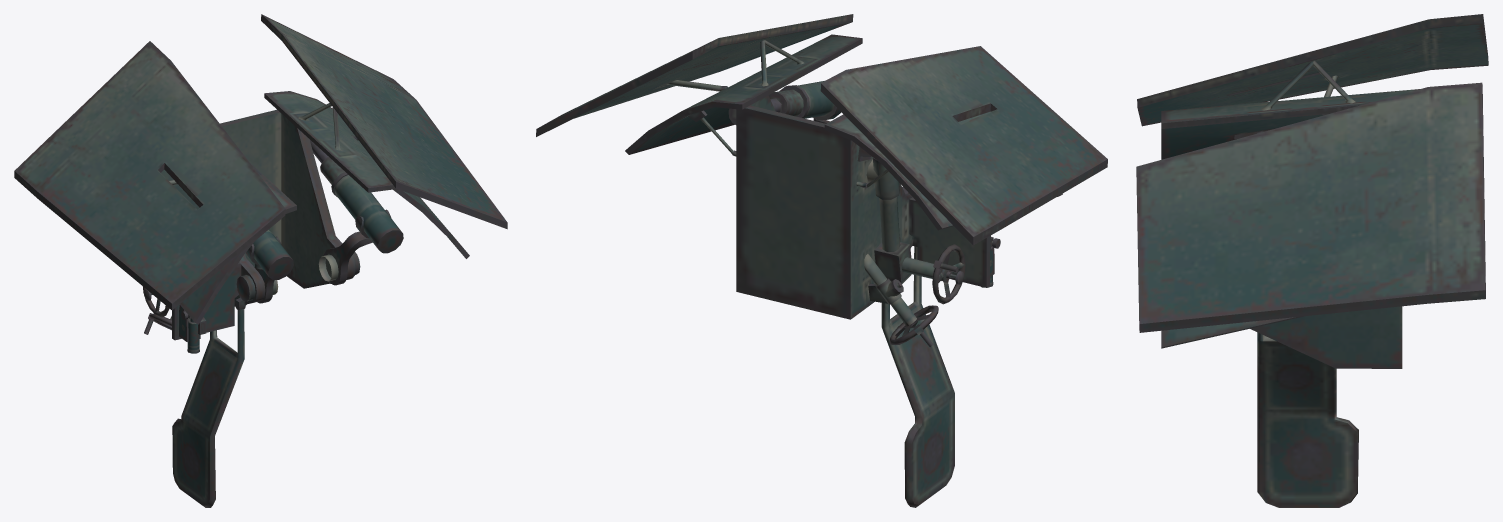
File: Turret_01.glb
3 renders of one model, left to right at view 1: azimuth 30°, elevation 25°; view 2: azimuth 150°, elevation 25°; view 3: azimuth 270°, elevation 25°, orthographic. The views are drawn at different scales.
Visible parts, largest first — view 1: set_0_group_0; view 2: set_0_group_0; view 3: set_0_group_0.
Part boxes in pixels (x1=…): set_0_group_0: x1=14, y1=14, x2=507, y2=507; set_0_group_0: x1=536, y1=14, x2=1107, y2=507; set_0_group_0: x1=1136, y1=14, x2=1488, y2=507.
Bounding box in the file's own units: 1.41 × 1.43 × 0.8981.
1 material, 1 textured.
